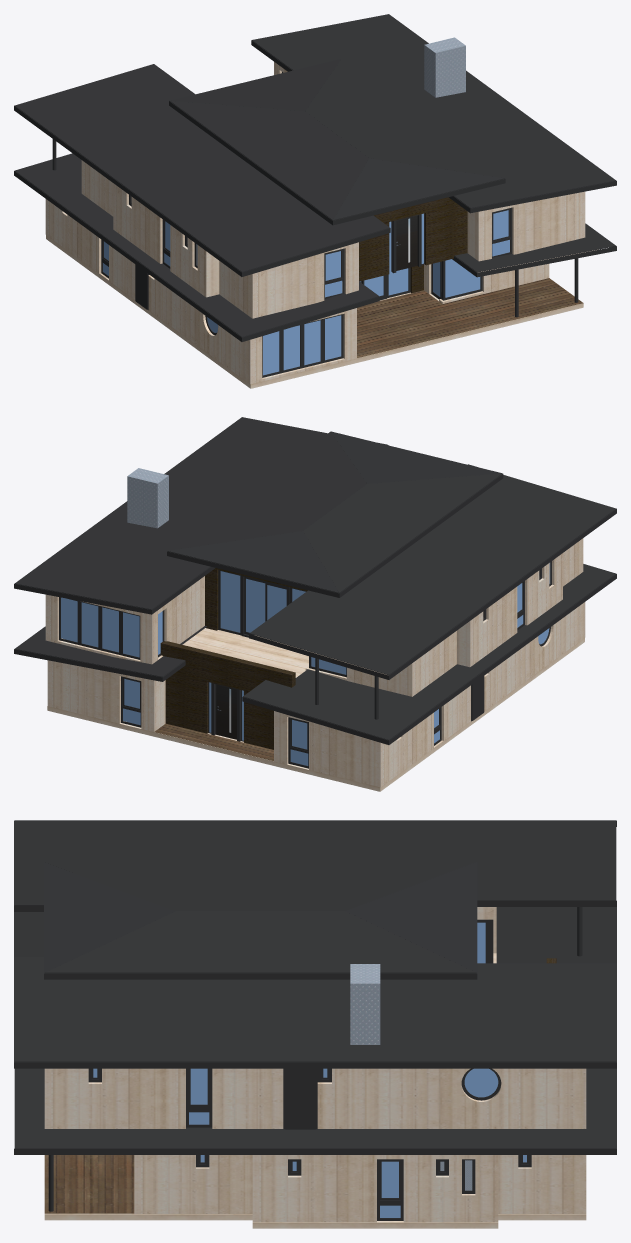
Rendered from House.fbx.
3 renders of one model, top to bottom at view 1: azimuth 30°, elevation 25°; view 2: azimuth 150°, elevation 25°; view 3: azimuth 270°, elevation 25°, orthographic. The views are drawn at different scales.
Parts seen in each view (by area): view 1: House; view 2: House; view 3: House.
Boxes of the visible parts, bbox=[...] form: House: bbox=[14, 14, 616, 388]; House: bbox=[14, 417, 616, 791]; House: bbox=[14, 820, 616, 1228].
Bounding box in the file's own units: 1314 × 596 × 1383.
